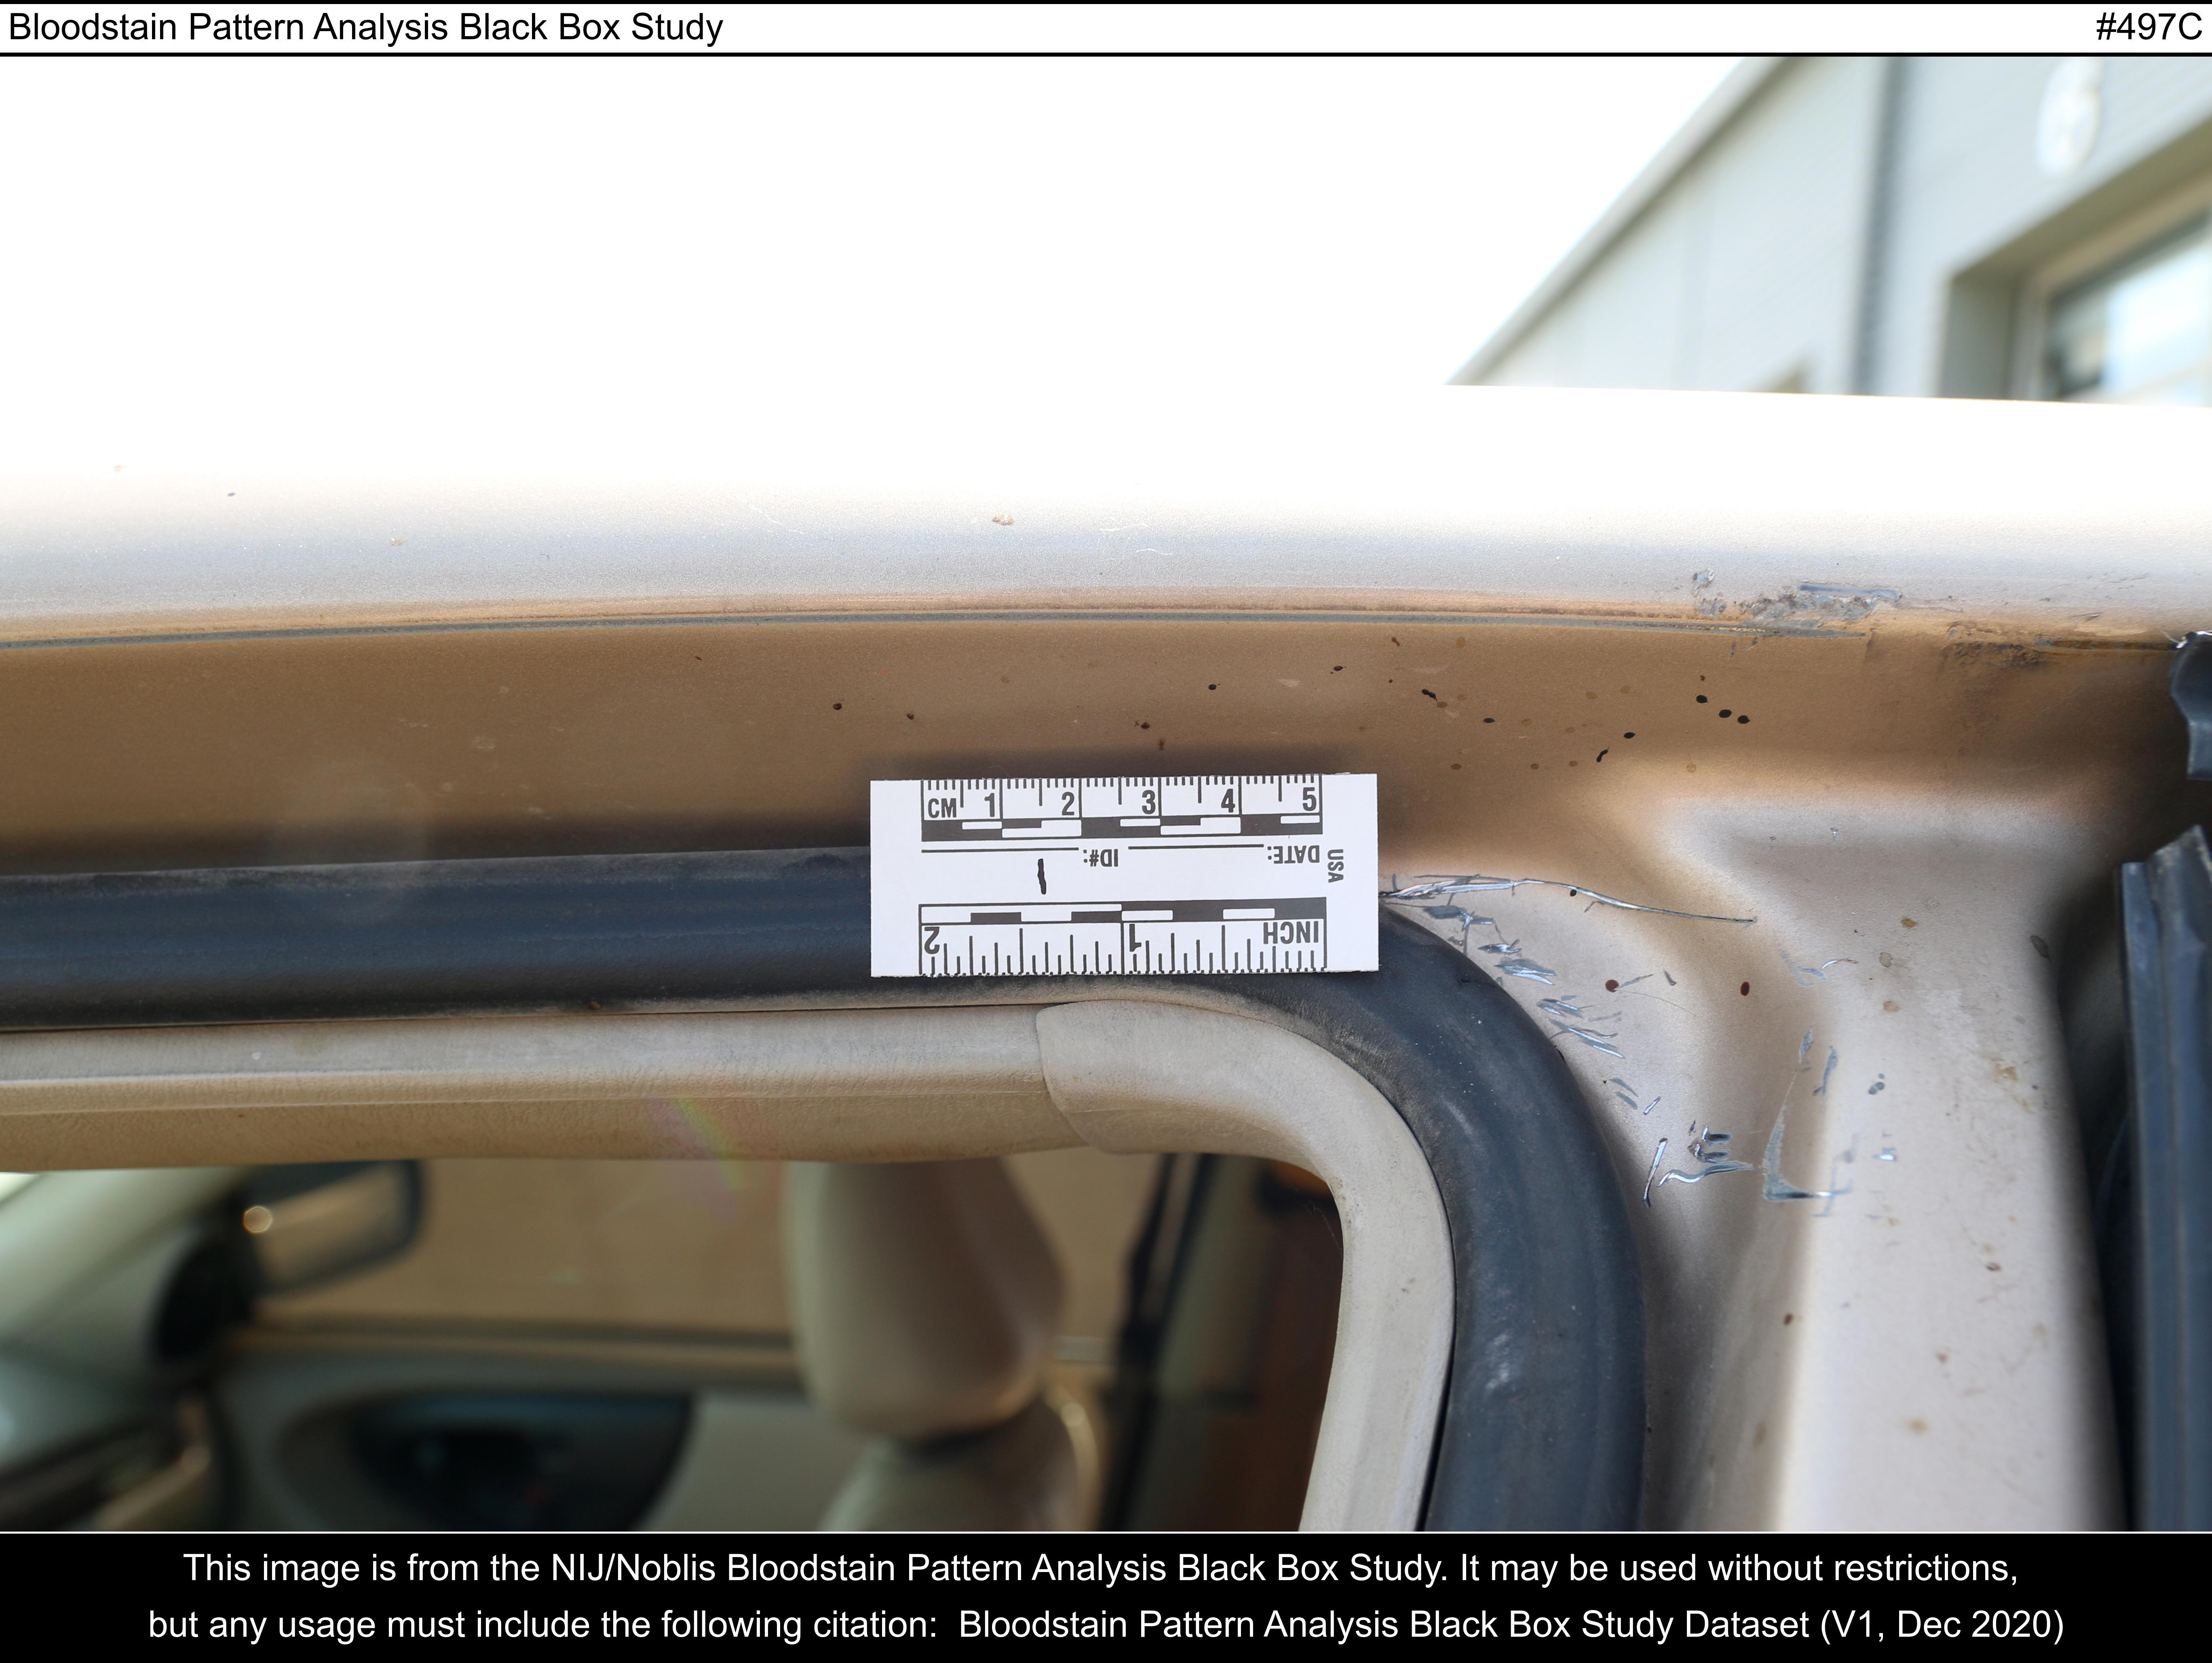Impact: (780, 629, 1962, 776)
